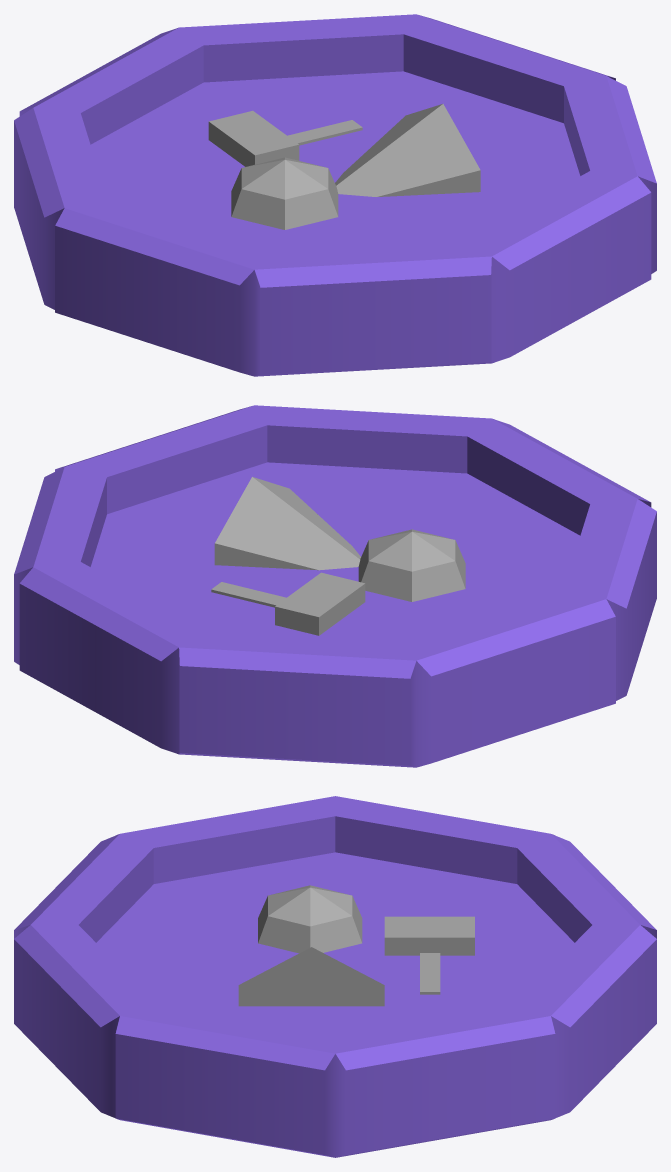
The model's file is DiscoMaquina.fbx.
3 views of the same model, one above another, from view 1: azimuth 30°, elevation 25°; view 2: azimuth 150°, elevation 25°; view 3: azimuth 270°, elevation 25° (orthographic). The views are drawn at different scales.
Visible parts, largest first — view 1: DiscoMaquina, SimboloMaquina; view 2: DiscoMaquina, SimboloMaquina; view 3: DiscoMaquina, SimboloMaquina.
Boxes of the visible parts, bbox=[...] form: DiscoMaquina: bbox=[14, 14, 656, 376]; SimboloMaquina: bbox=[208, 104, 480, 229]; DiscoMaquina: bbox=[14, 405, 656, 767]; SimboloMaquina: bbox=[211, 477, 465, 635]; DiscoMaquina: bbox=[14, 796, 656, 1157]; SimboloMaquina: bbox=[238, 885, 474, 1006].
Bounding box in the file's own units: 31.64 × 8.29 × 31.64.
